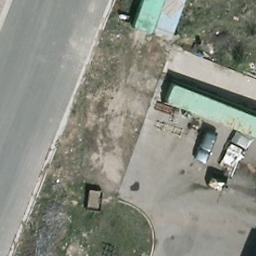car: (192, 127, 217, 165)
